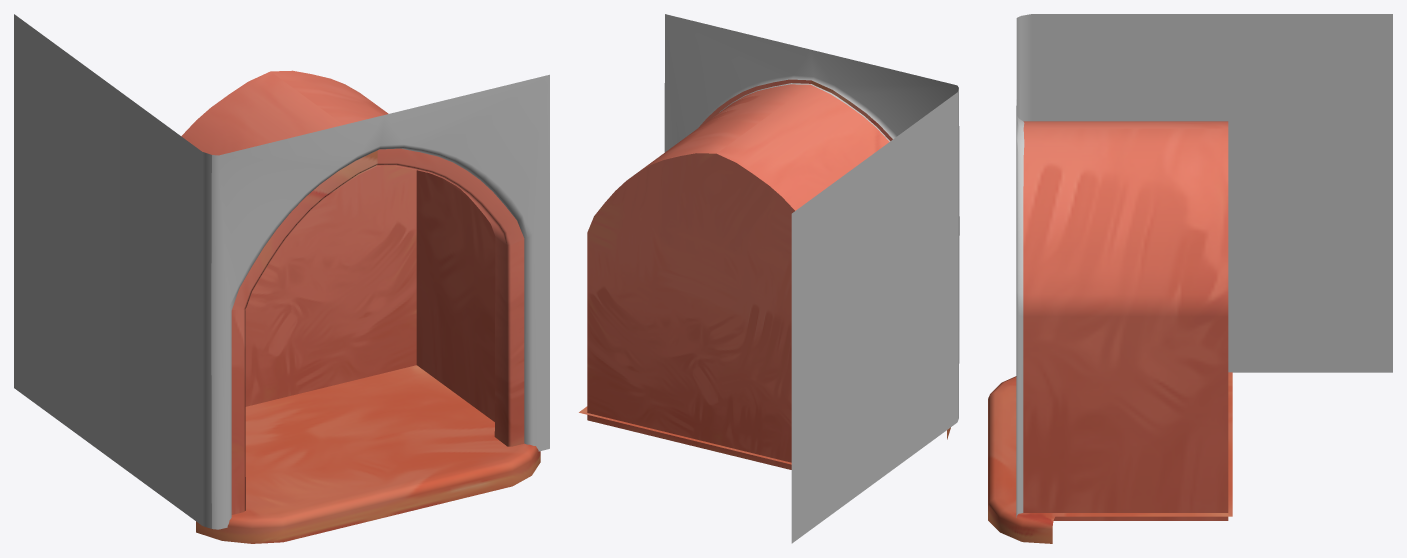
Rendered from BP_OrangeBrickDoorExit.fbx.
3 renders of one model, left to right at view 1: azimuth 30°, elevation 25°; view 2: azimuth 150°, elevation 25°; view 3: azimuth 270°, elevation 25°, orthographic. The views are drawn at different scales.
Parts seen in each view (by area): view 1: BrickWallDoorExit; view 2: BrickWallDoorExit; view 3: BrickWallDoorExit.
Part boxes in pixels (x1,y1,x2,y2): BrickWallDoorExit: (14,14,549,543); BrickWallDoorExit: (579,14,959,543); BrickWallDoorExit: (988,14,1392,543).
Size of the model in its own units: 95 by 104 by 102.
